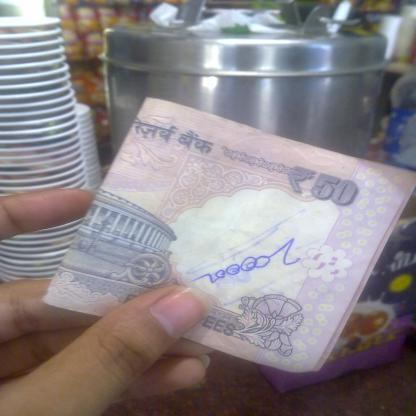Old50Back: (44, 94, 416, 372)
